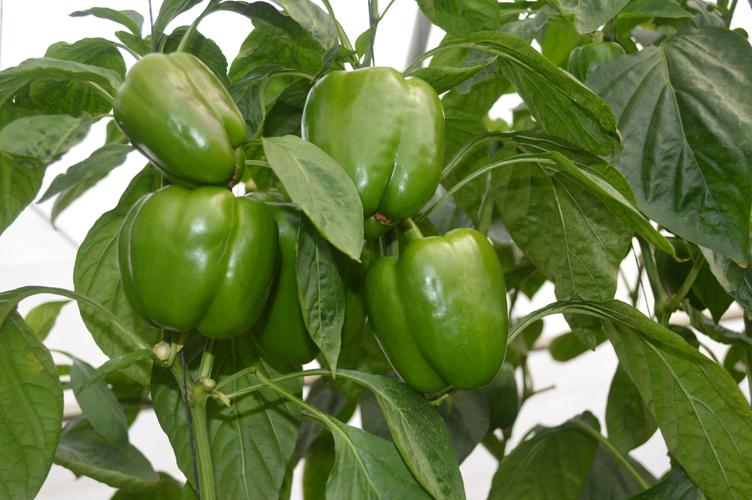BellPepper: (116, 185, 273, 338), (366, 228, 510, 392), (301, 66, 443, 231), (110, 55, 247, 191), (254, 201, 364, 363)
